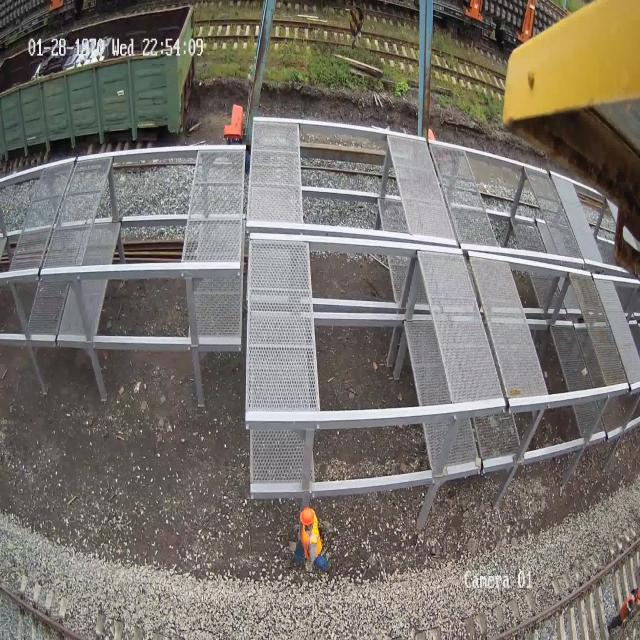Helmet: (300, 506, 313, 526)
Person: (293, 506, 328, 573), (606, 586, 640, 638)
